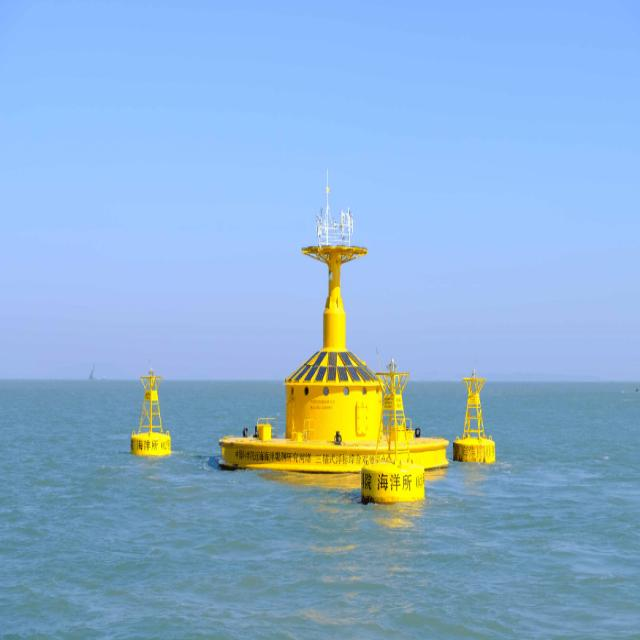buoy: (218, 195, 445, 478), (362, 360, 423, 504), (449, 366, 500, 468), (130, 363, 174, 457)
